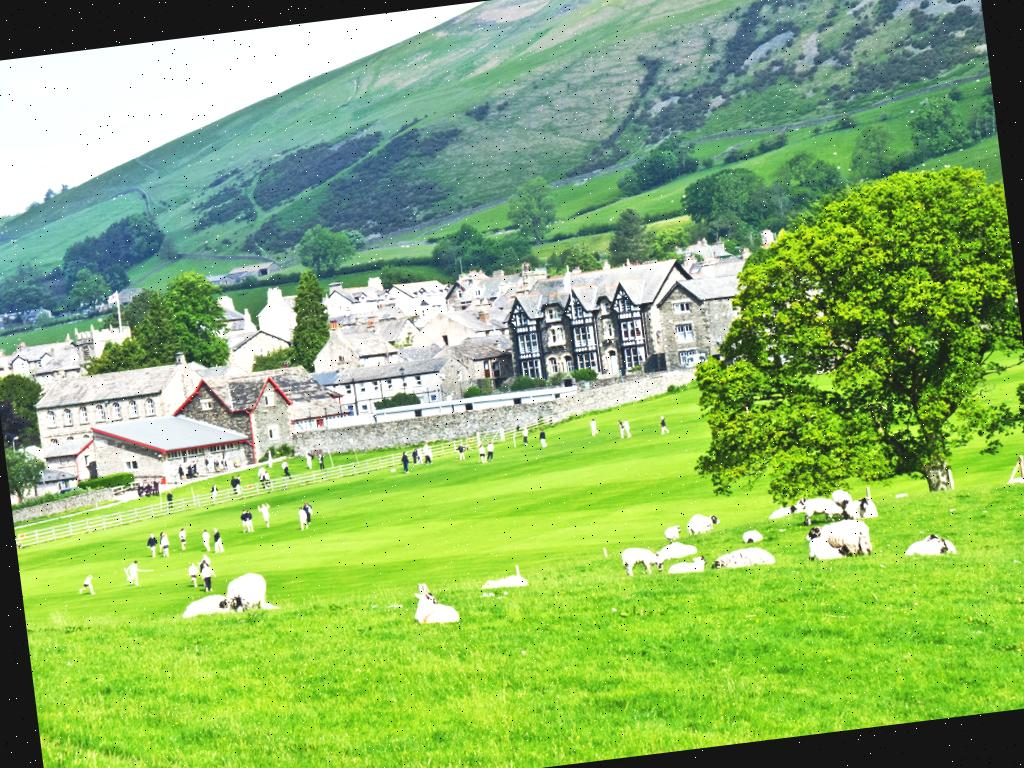Sheep: (804, 516, 876, 562), (406, 584, 465, 628), (899, 527, 963, 566), (707, 542, 778, 574), (614, 543, 668, 583), (218, 569, 268, 612), (804, 532, 854, 566), (180, 586, 228, 620), (840, 490, 884, 524), (662, 550, 709, 580), (480, 569, 532, 595), (685, 512, 722, 534)
